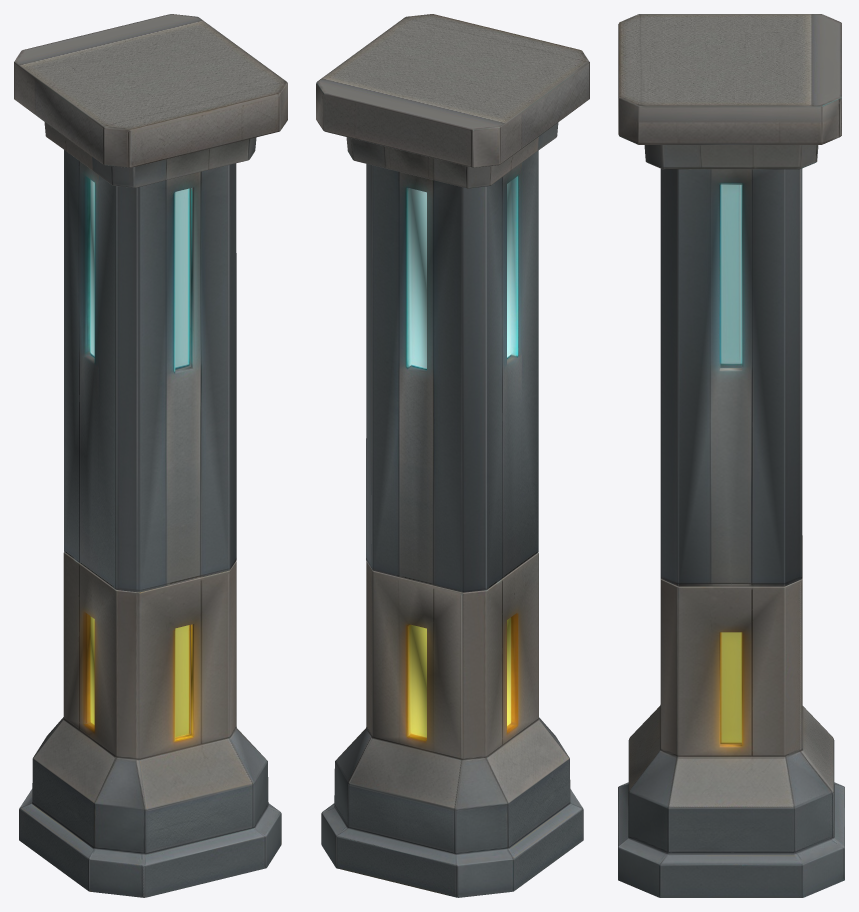
The model's file is CompletePillar.fbx.
3 views of the same model, side by side, from view 1: azimuth 30°, elevation 25°; view 2: azimuth 150°, elevation 25°; view 3: azimuth 270°, elevation 25° (orthographic). The views are drawn at different scales.
Parts seen in each view (by area): view 1: tripo_node_0aaf3f02; view 2: tripo_node_0aaf3f02; view 3: tripo_node_0aaf3f02.
Part boxes in pixels (x1,y1,x2,y2): tripo_node_0aaf3f02: [14, 14, 287, 897]; tripo_node_0aaf3f02: [316, 14, 589, 897]; tripo_node_0aaf3f02: [618, 14, 844, 897].
Bounding box in the file's own units: 0.2612 × 0.9995 × 0.2603.
